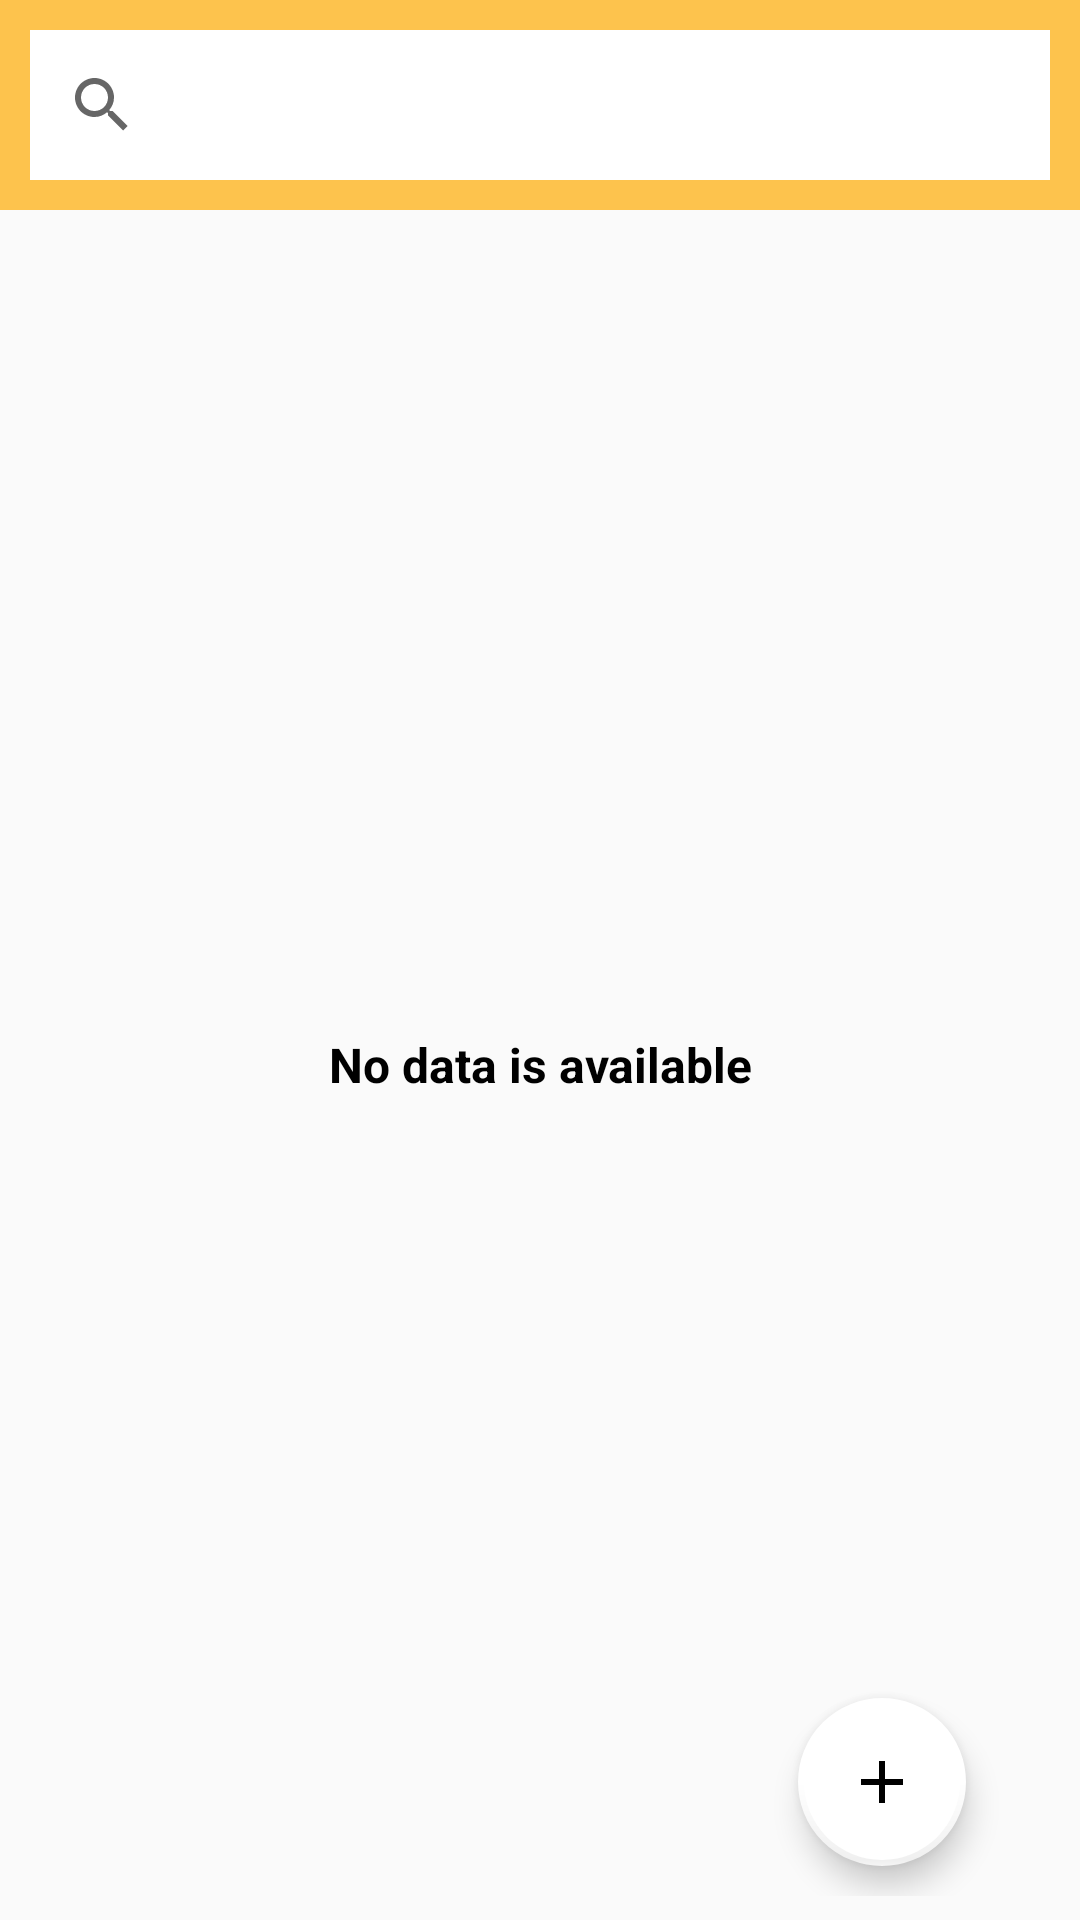

Icons on this 1080x1920 Android screen, each with the point to tap as (x=x, y=y):
add: (x=884, y=1813)
